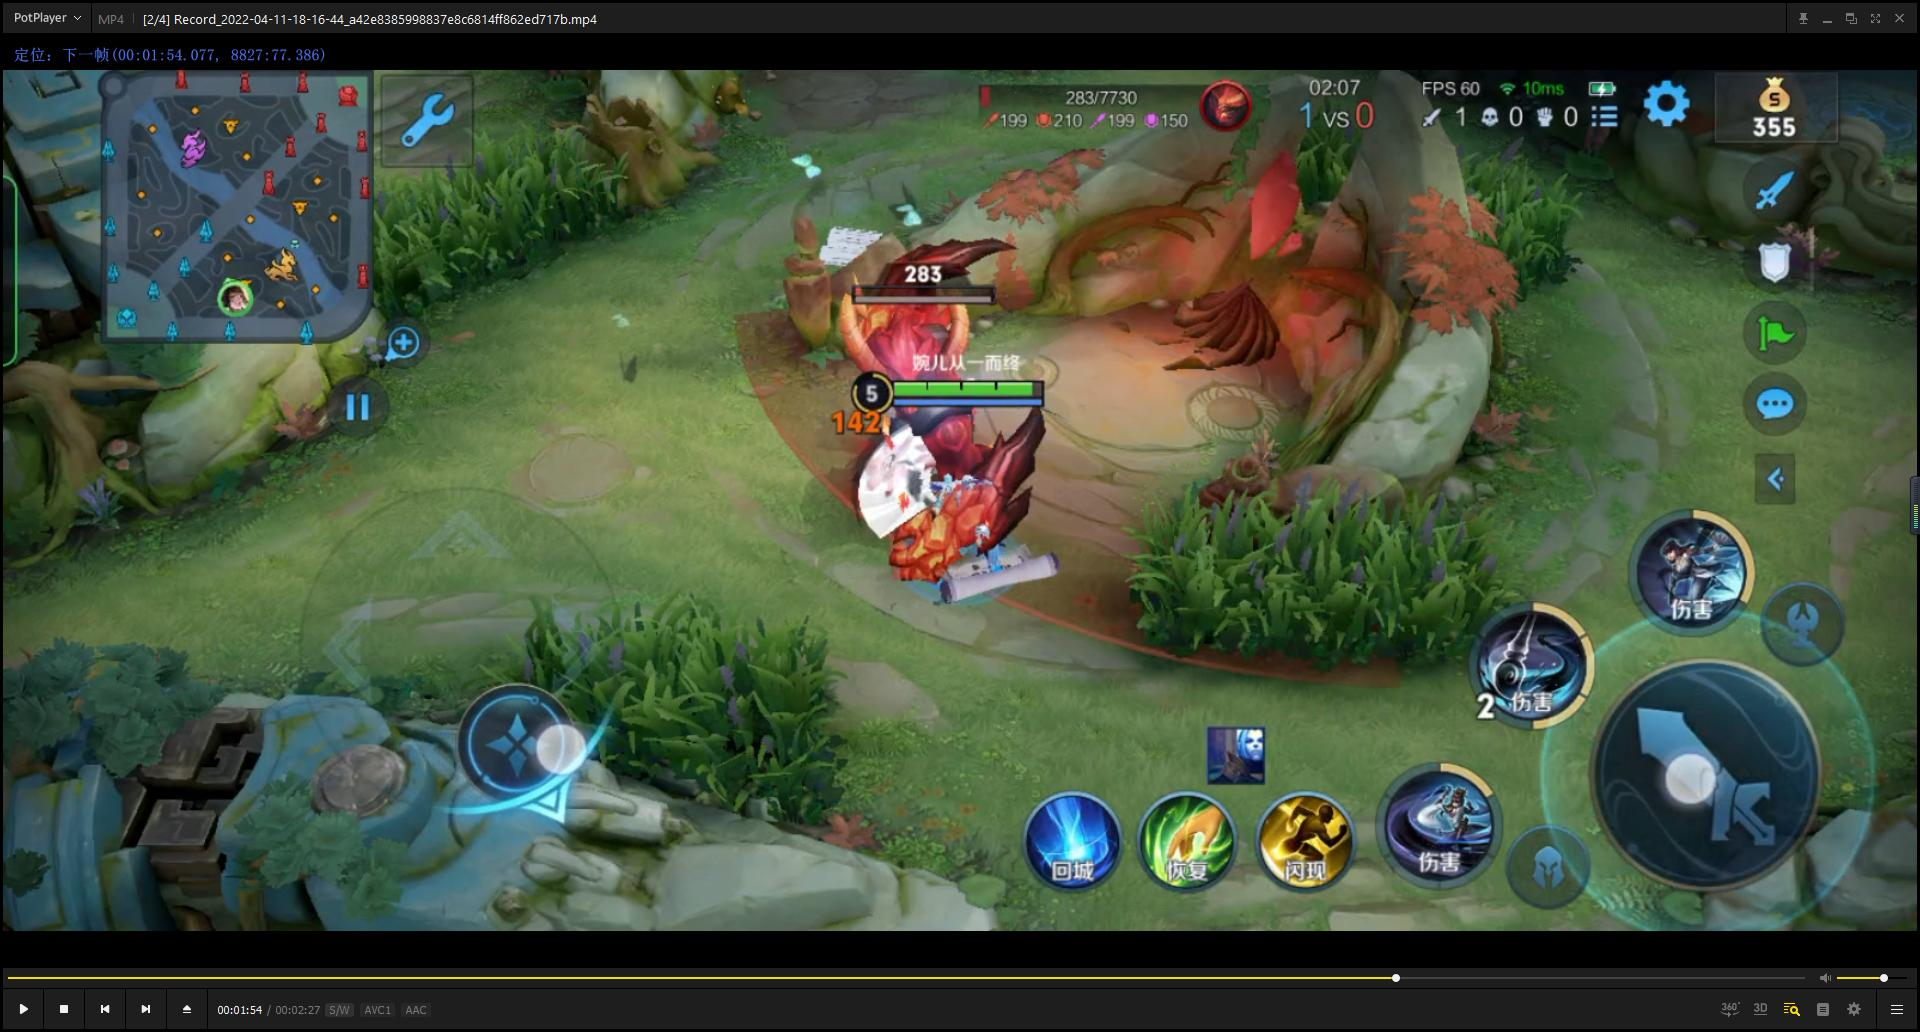Buff: (808, 200, 1086, 595)
